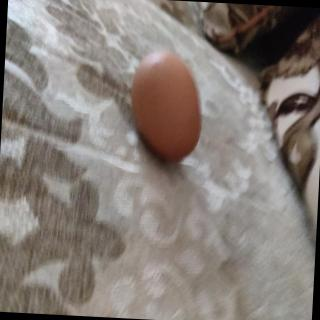Telur: (128, 52, 208, 169)
